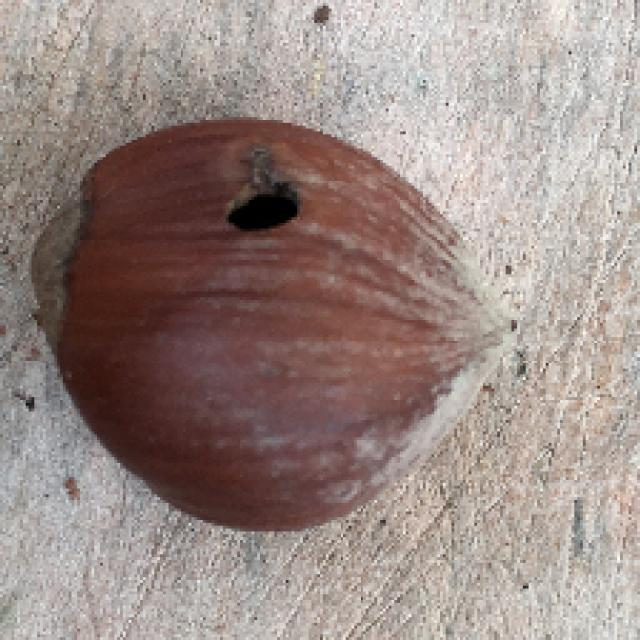damagedHazelnut: (31, 117, 524, 531)
